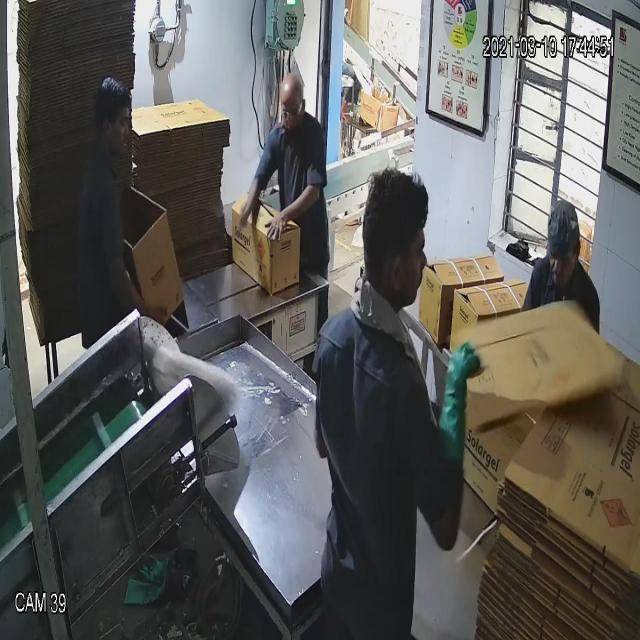No_Gloves: (37, 78, 292, 214)
